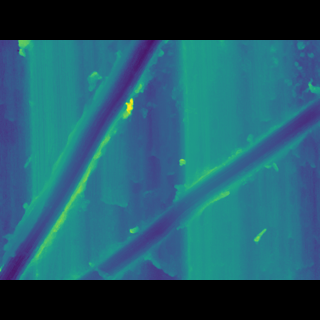Loch: (65, 111, 319, 250), (0, 69, 167, 251)
